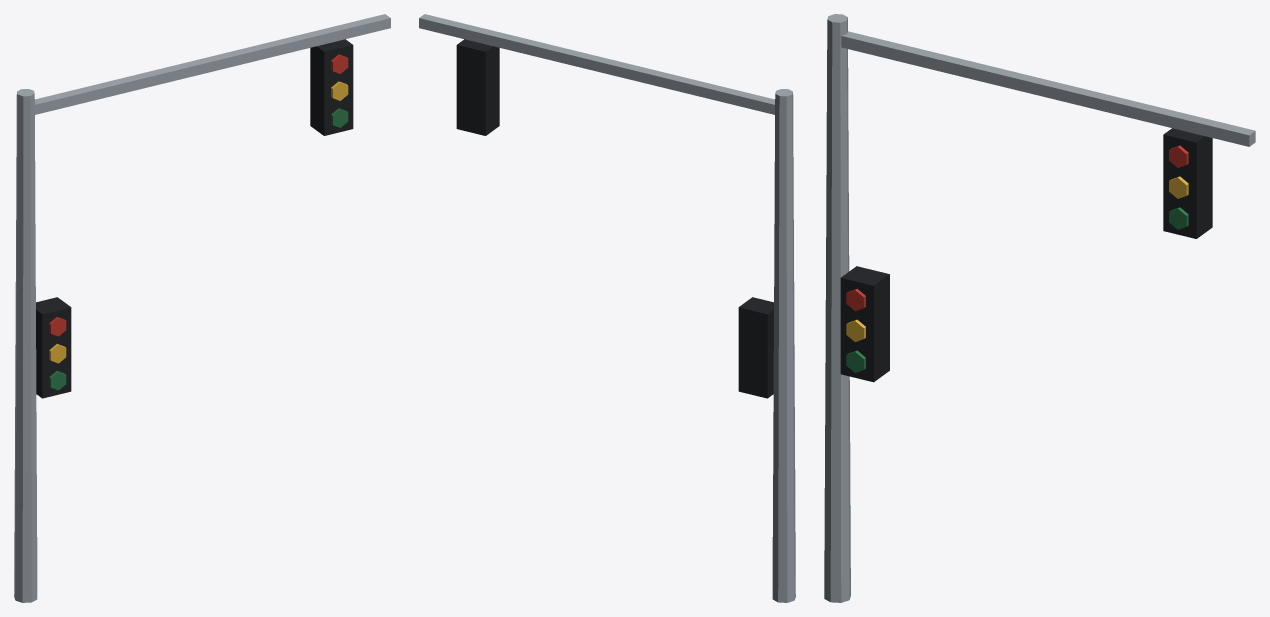
The model's file is TrafficLight_Pole.glb.
3 views of the same model, side by side, from view 1: azimuth 30°, elevation 25°; view 2: azimuth 150°, elevation 25°; view 3: azimuth 330°, elevation 25° (orthographic). The views are drawn at different scales.
Visible parts, largest first — view 1: TrafficLight_Pole_Metal, TrafficLight_Pole_Rubber, TrafficLight_Pole_PaintYellow, TrafficLight_Pole_SignGreen, TrafficLight_Pole_SignRed; view 2: TrafficLight_Pole_Metal, TrafficLight_Pole_Rubber; view 3: TrafficLight_Pole_Metal, TrafficLight_Pole_Rubber, TrafficLight_Pole_SignGreen, TrafficLight_Pole_PaintYellow, TrafficLight_Pole_SignRed.
Boxes of the visible parts, bbox=[...] form: TrafficLight_Pole_Metal: bbox=[14, 14, 390, 602]; TrafficLight_Pole_Rubber: bbox=[36, 39, 353, 398]; TrafficLight_Pole_PaintYellow: bbox=[49, 81, 348, 363]; TrafficLight_Pole_SignGreen: bbox=[49, 108, 348, 390]; TrafficLight_Pole_SignRed: bbox=[49, 54, 348, 336]; TrafficLight_Pole_Metal: bbox=[419, 14, 795, 602]; TrafficLight_Pole_Rubber: bbox=[456, 39, 773, 398]; TrafficLight_Pole_Metal: bbox=[824, 14, 1255, 602]; TrafficLight_Pole_Rubber: bbox=[840, 128, 1212, 382]; TrafficLight_Pole_SignGreen: bbox=[846, 207, 1188, 372]; TrafficLight_Pole_PaintYellow: bbox=[846, 176, 1188, 341]; TrafficLight_Pole_SignRed: bbox=[846, 145, 1188, 311].
Bounding box in the file's own units: 4.63 × 6 × 0.34.
